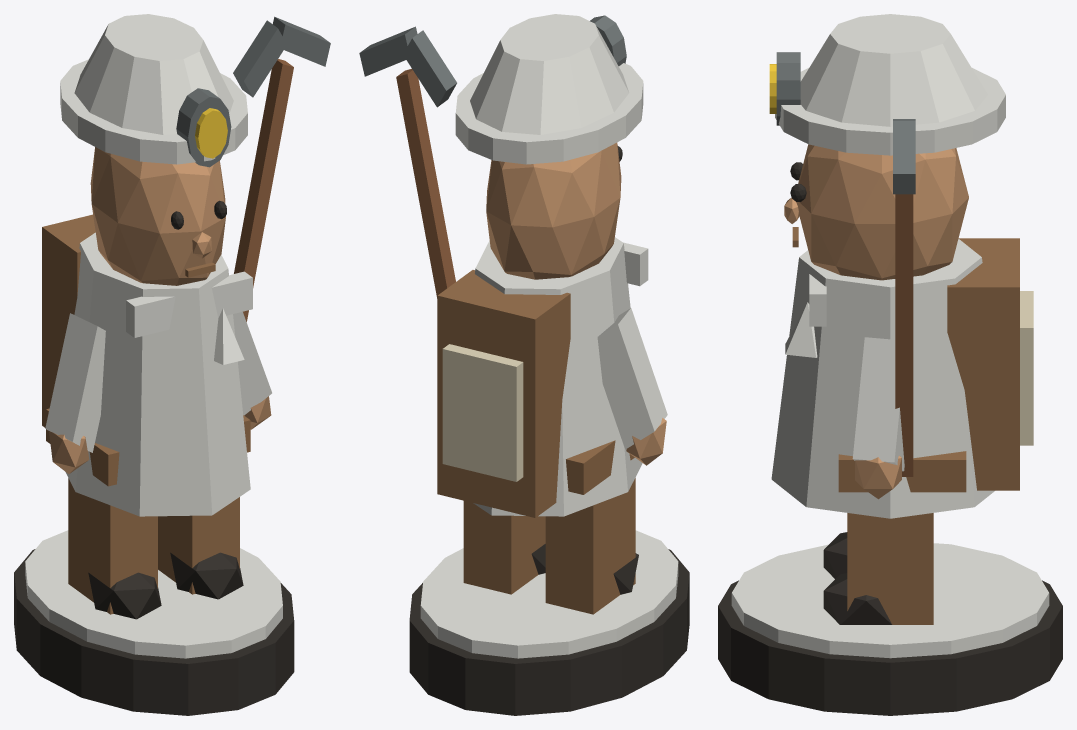
The model's file is peao_garimpeiro.glb.
3 views of the same model, side by side, from view 1: azimuth 30°, elevation 25°; view 2: azimuth 150°, elevation 25°; view 3: azimuth 270°, elevation 25° (orthographic). The views are drawn at different scales.
Parts seen in each view (by area): view 1: peao_garimpeiro; view 2: peao_garimpeiro; view 3: peao_garimpeiro.
Part boxes in pixels (x1,y1,x2,y2): peao_garimpeiro: (14,14,330,715); peao_garimpeiro: (359,14,689,715); peao_garimpeiro: (718,14,1062,715).
Bounding box in the file's own units: 2 × 4 × 2.
